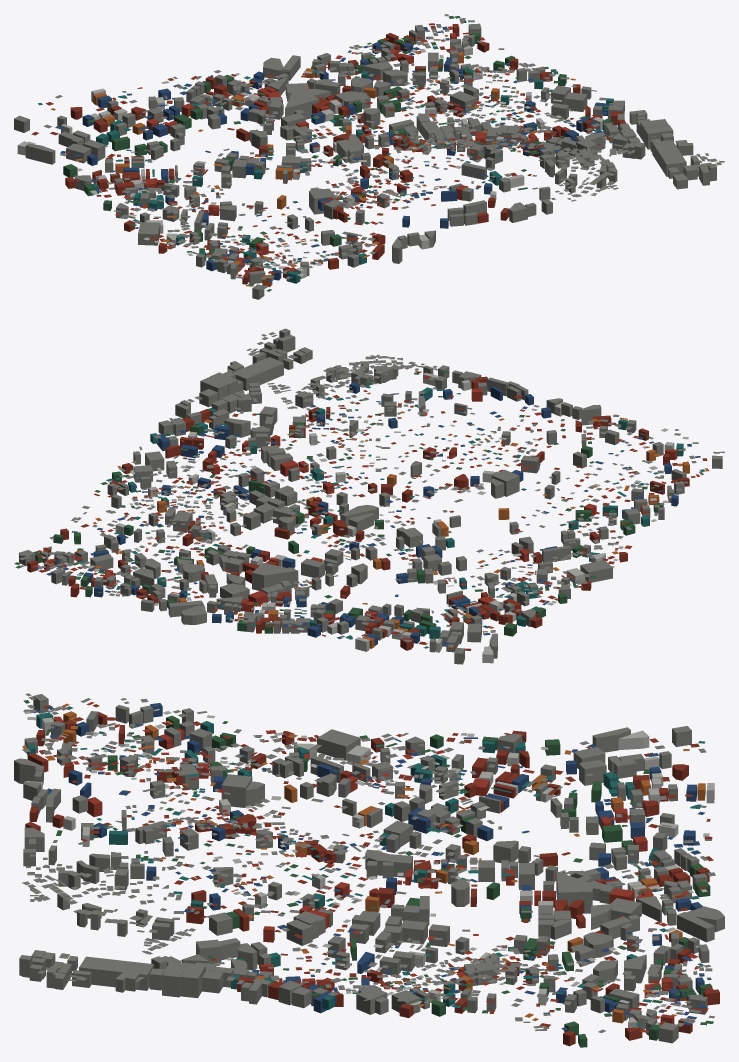
The model's file is far-15-27360-14868.8302c0ff.glb.
3 renders of one model, top to bottom at view 1: azimuth 30°, elevation 25°; view 2: azimuth 150°, elevation 25°; view 3: azimuth 270°, elevation 25°, orthographic. The views are drawn at different scales.
Bounding box in the file's own units: 1200 × 188 × 1208.
